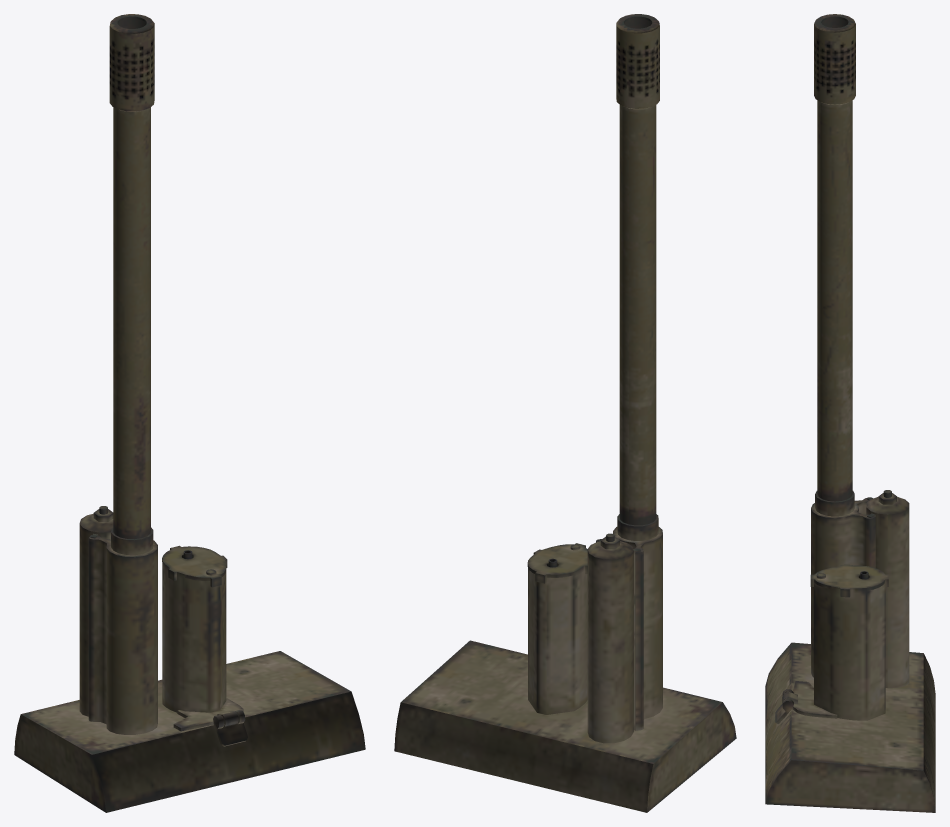
Rendered from Gun_04.glb.
3 views of the same model, side by side, from view 1: azimuth 30°, elevation 25°; view 2: azimuth 150°, elevation 25°; view 3: azimuth 270°, elevation 25° (orthographic). The views are drawn at different scales.
Visible parts, largest first — view 1: set_0_group_0; view 2: set_0_group_0; view 3: set_0_group_0.
Boxes of the visible parts, x1=… form: set_0_group_0: x1=14, y1=14, x2=365, y2=812; set_0_group_0: x1=394, y1=14, x2=736, y2=812; set_0_group_0: x1=765, y1=14, x2=935, y2=812.
Bounding box in the file's own units: 0.7148 × 1.99 × 0.4383.
1 material, 1 textured.
